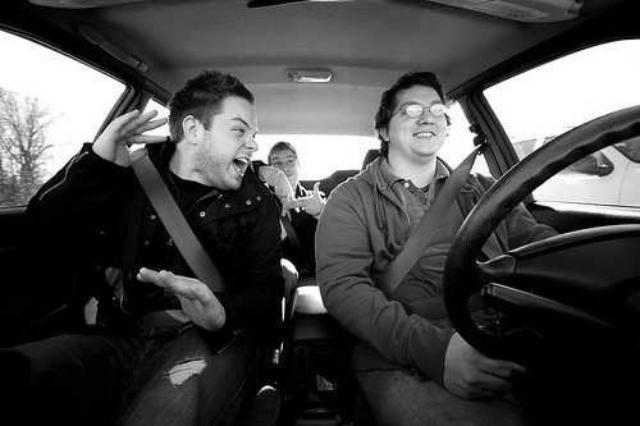SafeDriving: (225, 120, 250, 138)
Seatbelt: (376, 128, 488, 298), (127, 146, 226, 294)
